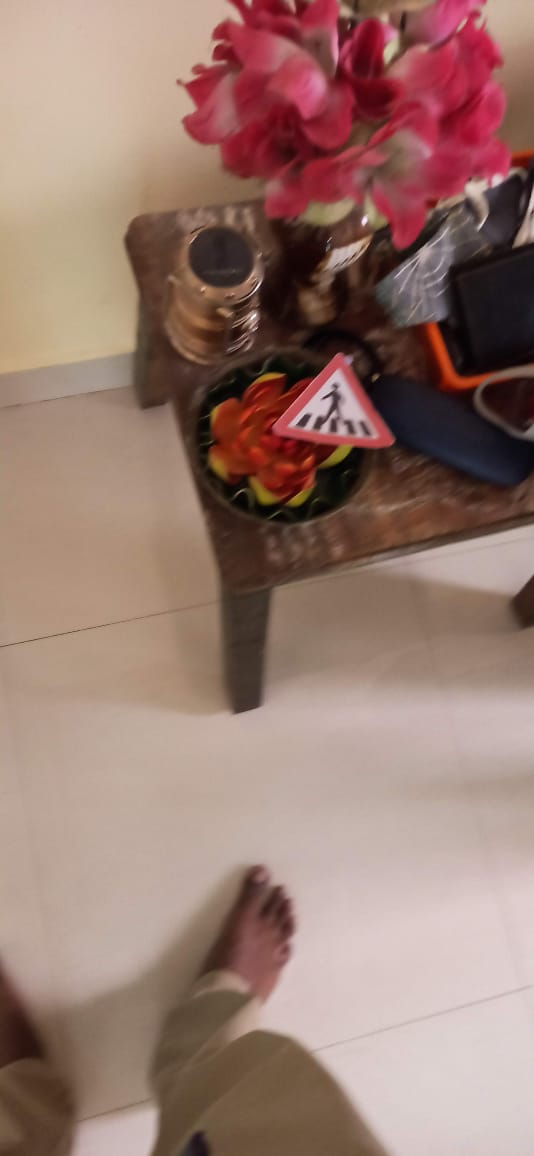PEDESTRIAN CROSSING: (272, 353, 405, 456)
